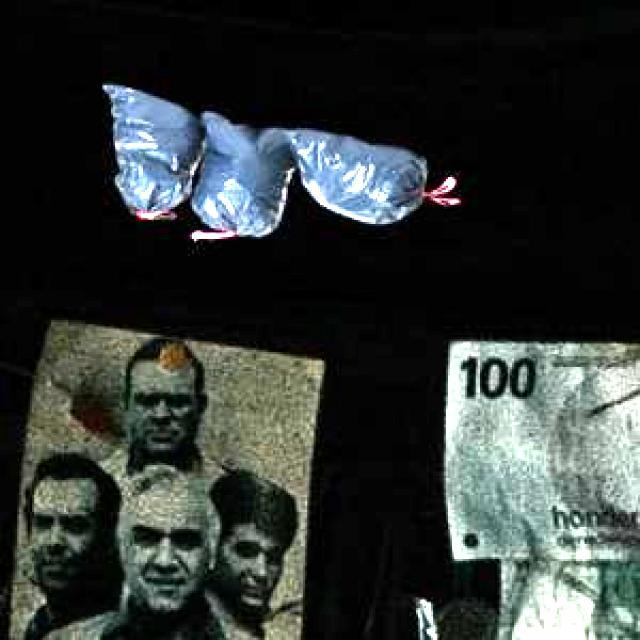Garbage_Bag: (101, 82, 422, 236)
